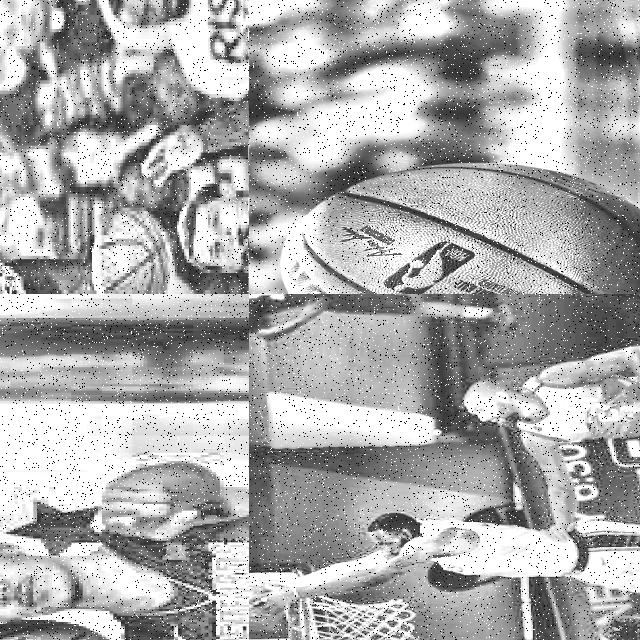Basketball: (281, 162, 640, 294), (92, 207, 171, 294), (249, 584, 283, 624)
